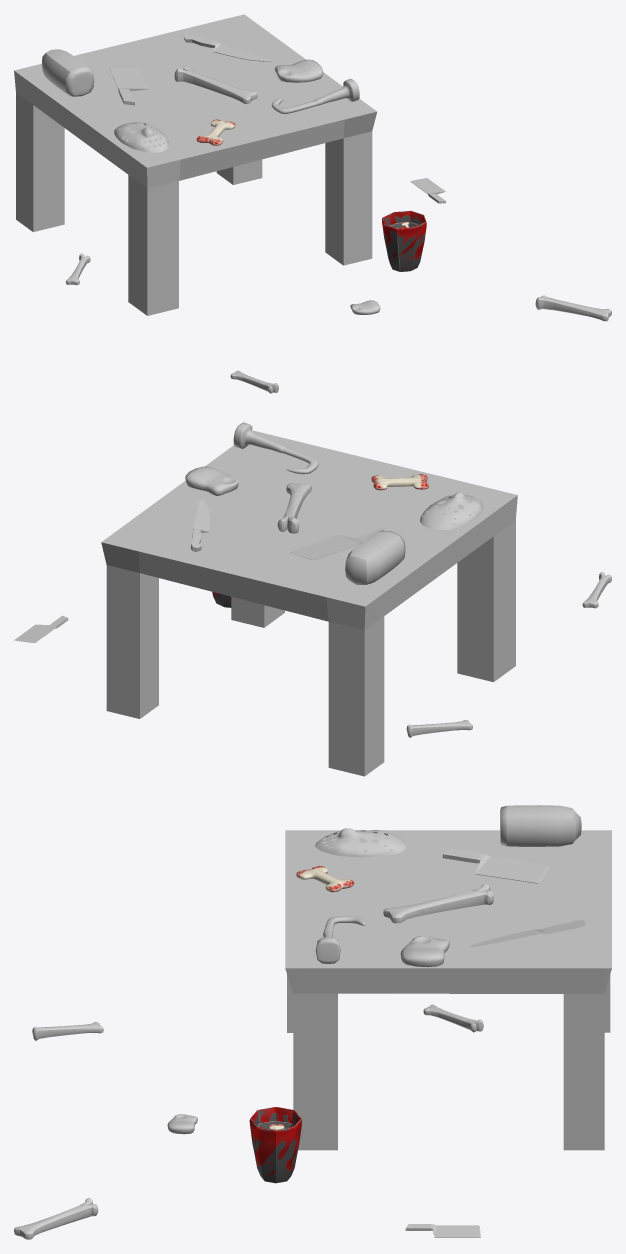
Rendered from Diorama1.fbx.
3 renders of one model, top to bottom at view 1: azimuth 30°, elevation 25°; view 2: azimuth 150°, elevation 25°; view 3: azimuth 270°, elevation 25°, orthographic. The views are drawn at different scales.
Visible parts, largest first — view 1: cuchillo grande .001; view 2: cuchillo grande .001; view 3: cuchillo grande .001.
Part boxes in pixels (bbox=[...]): cuchillo grande .001: bbox=[14, 14, 611, 393]; cuchillo grande .001: bbox=[14, 422, 611, 776]; cuchillo grande .001: bbox=[14, 805, 611, 1239].
Bounding box in the file's own units: 443 × 210 × 491.
